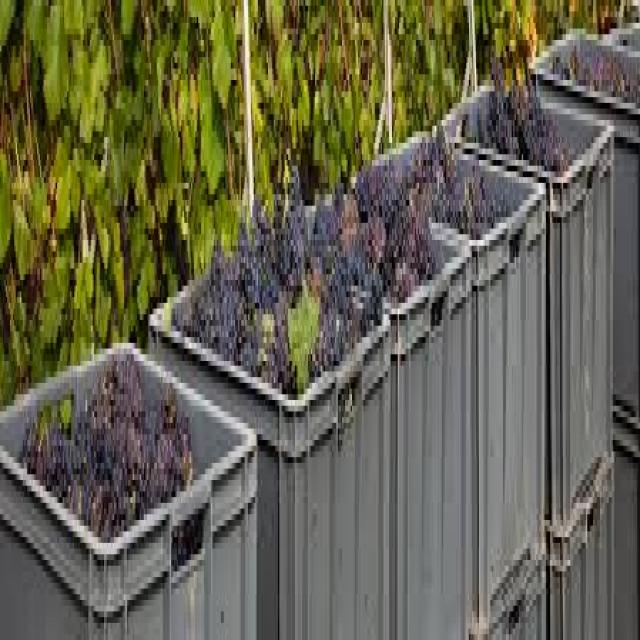basket: (159, 314, 397, 640), (0, 343, 257, 640), (536, 34, 640, 637), (542, 109, 616, 640), (472, 166, 547, 640), (391, 234, 473, 640)
